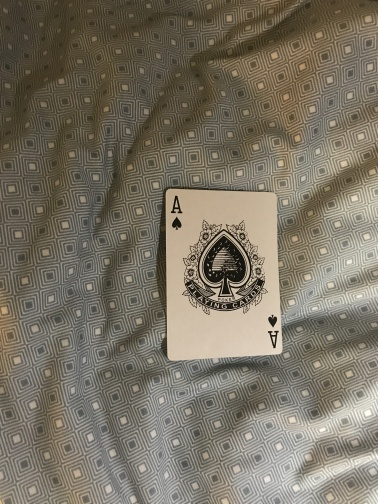ace: (162, 187, 284, 363)
